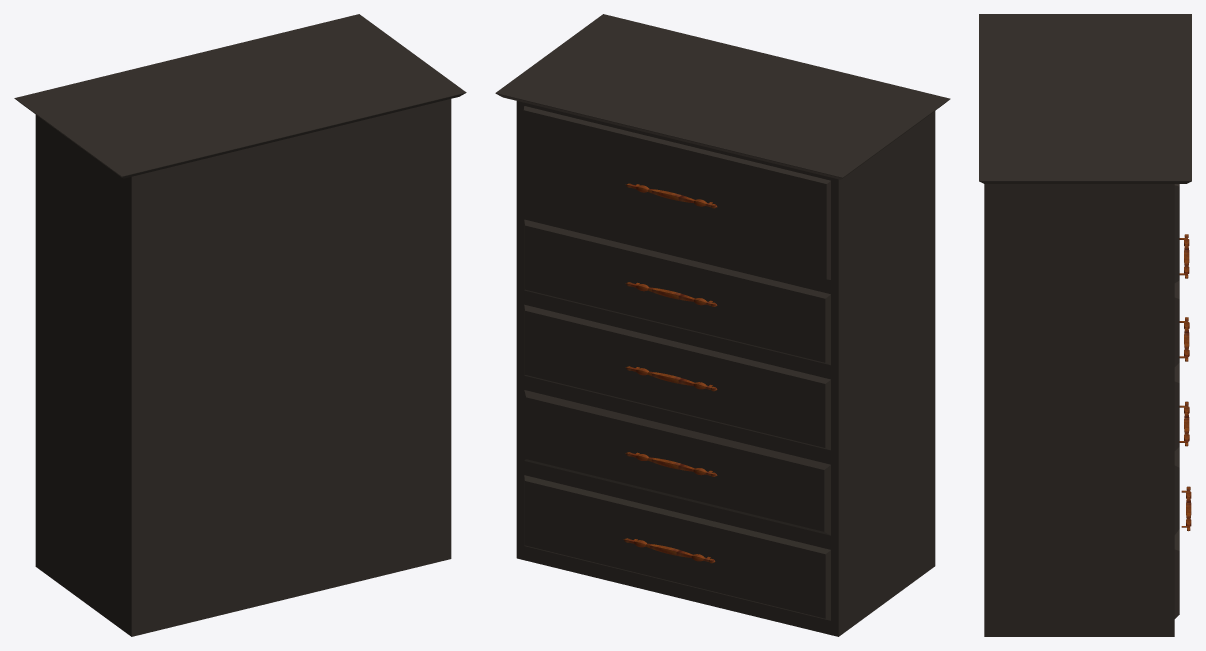
The picture shows the model from 3 angles, left to right: view 1: azimuth 30°, elevation 25°; view 2: azimuth 150°, elevation 25°; view 3: azimuth 270°, elevation 25°; orthographic projection.
Visible parts, largest first — view 1: mesh1_mesh1-geometry; view 2: mesh1_mesh1-geometry, mesh9_mesh9-geometry; view 3: mesh1_mesh1-geometry, mesh9_mesh9-geometry.
Boxes of the visible parts, x1=… form: mesh1_mesh1-geometry: x1=14, y1=14, x2=466, y2=636; mesh1_mesh1-geometry: x1=495, y1=14, x2=950, y2=636; mesh9_mesh9-geometry: x1=623, y1=183, x2=717, y2=563; mesh1_mesh1-geometry: x1=979, y1=14, x2=1191, y2=636; mesh9_mesh9-geometry: x1=1184, y1=234, x2=1191, y2=531.
Size of the model in its own units: 0.5819 by 0.7505 by 0.3133.
